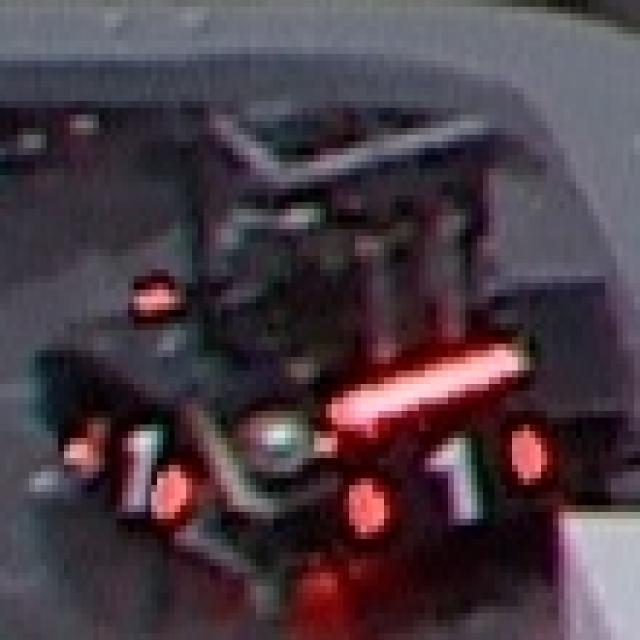R1: (337, 411, 553, 546), (82, 411, 204, 519)
